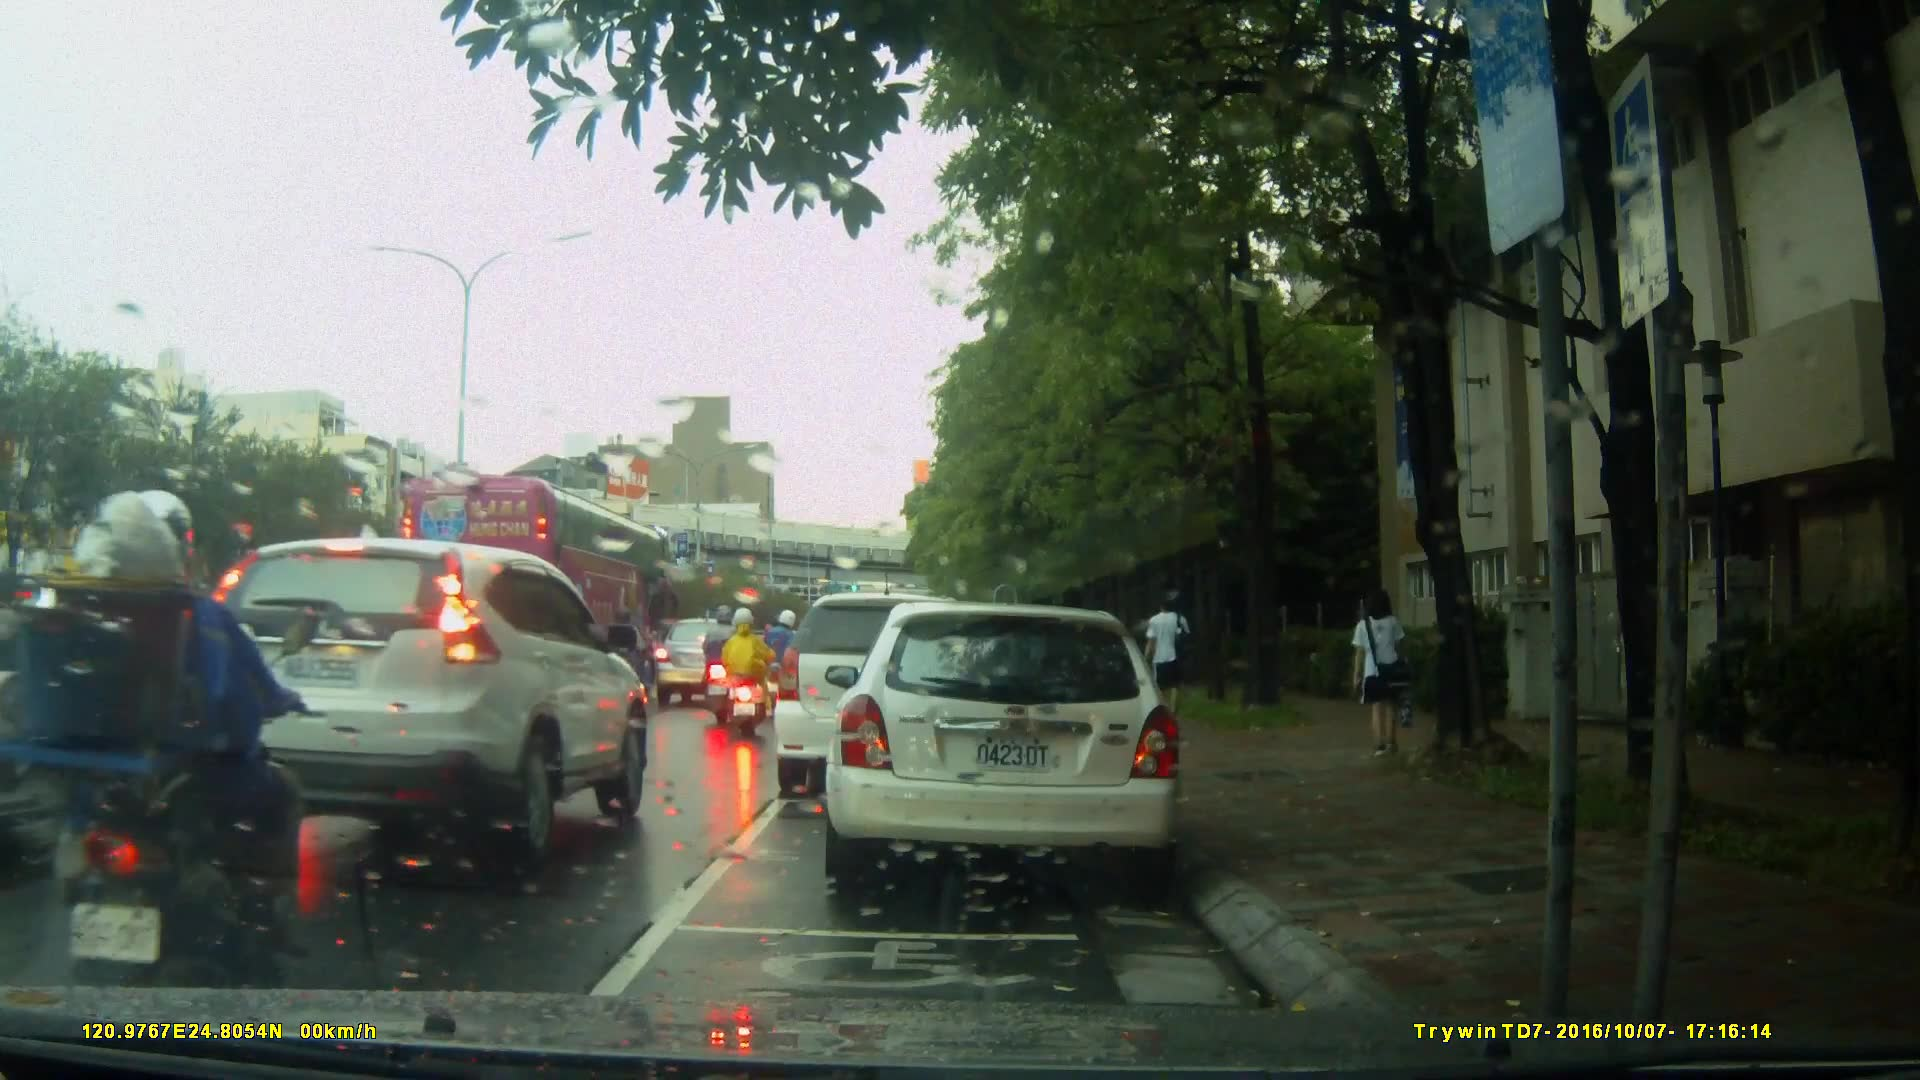pedestrian: (1338, 582, 1421, 774), (1143, 591, 1191, 723)
rider: (5, 490, 312, 1024), (718, 606, 769, 741), (696, 599, 748, 720), (764, 605, 807, 710)
vehicle: (194, 537, 655, 871), (835, 594, 1194, 898), (391, 475, 683, 679), (776, 590, 1026, 784), (651, 616, 764, 704)
